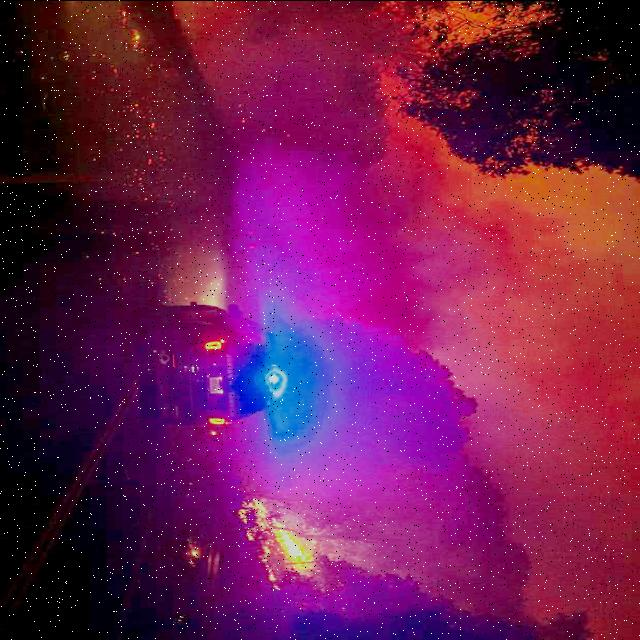api: (250, 490, 323, 574)
asap: (225, 69, 527, 349)
